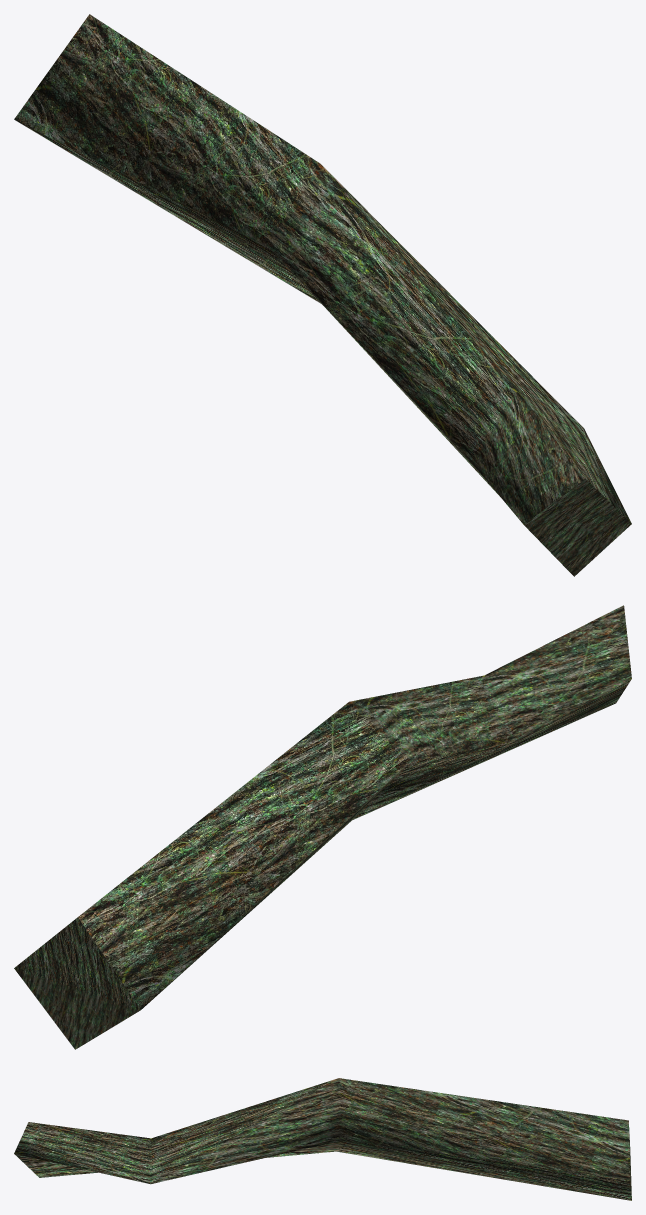
File: decd_dath_overgrownbranch_a2_l2.fbx
3 views of the same model, one above another, from view 1: azimuth 30°, elevation 25°; view 2: azimuth 150°, elevation 25°; view 3: azimuth 270°, elevation 25° (orthographic). The views are drawn at different scales.
Parts seen in each view (by area): view 1: mesh_node; view 2: mesh_node; view 3: mesh_node.
Part boxes in pixels (x1=…): mesh_node: x1=14, y1=14, x2=631, y2=576; mesh_node: x1=14, y1=605, x2=631, y2=1049; mesh_node: x1=14, y1=1078, x2=631, y2=1200.
Bounding box in the file's own units: 1.52 × 1.75 × 8.75.
Materials: 1 (1 with a texture image).
